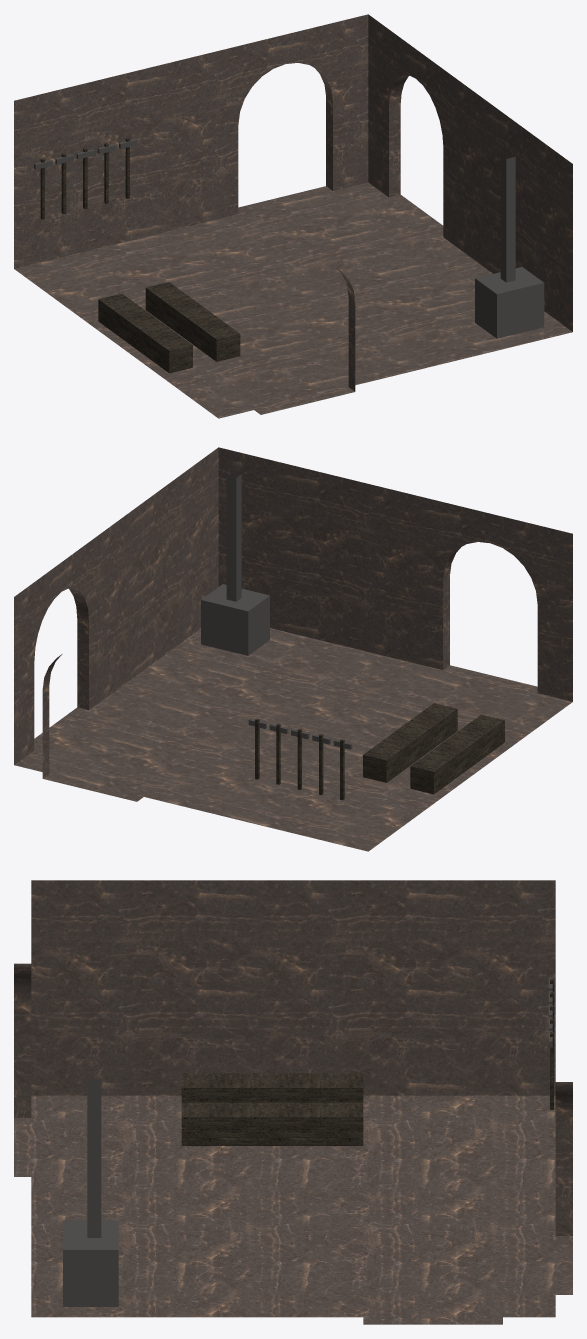
Rendered from quarry-lodge.9c42d8bb.gltf.
3 renders of one model, top to bottom at view 1: azimuth 30°, elevation 25°; view 2: azimuth 150°, elevation 25°; view 3: azimuth 270°, elevation 25°, orthographic. The views are drawn at different scales.
Parts seen in each view (by area): view 1: quarry-lodge-mesh, quarry-lodge-props; view 2: quarry-lodge-mesh, quarry-lodge-props; view 3: quarry-lodge-mesh, quarry-lodge-props.
Boxes of the visible parts, <box> form: quarry-lodge-mesh: <box>14,14,572,418</box>; quarry-lodge-props: <box>34,137,544,373</box>; quarry-lodge-mesh: <box>14,447,572,851</box>; quarry-lodge-props: <box>201,474,504,800</box>; quarry-lodge-mesh: <box>14,880,572,1324</box>; quarry-lodge-props: <box>63,977,553,1306</box>.
Size of the model in its own units: 7.75 by 3.4 by 8.
3 materials, 2 textured.
